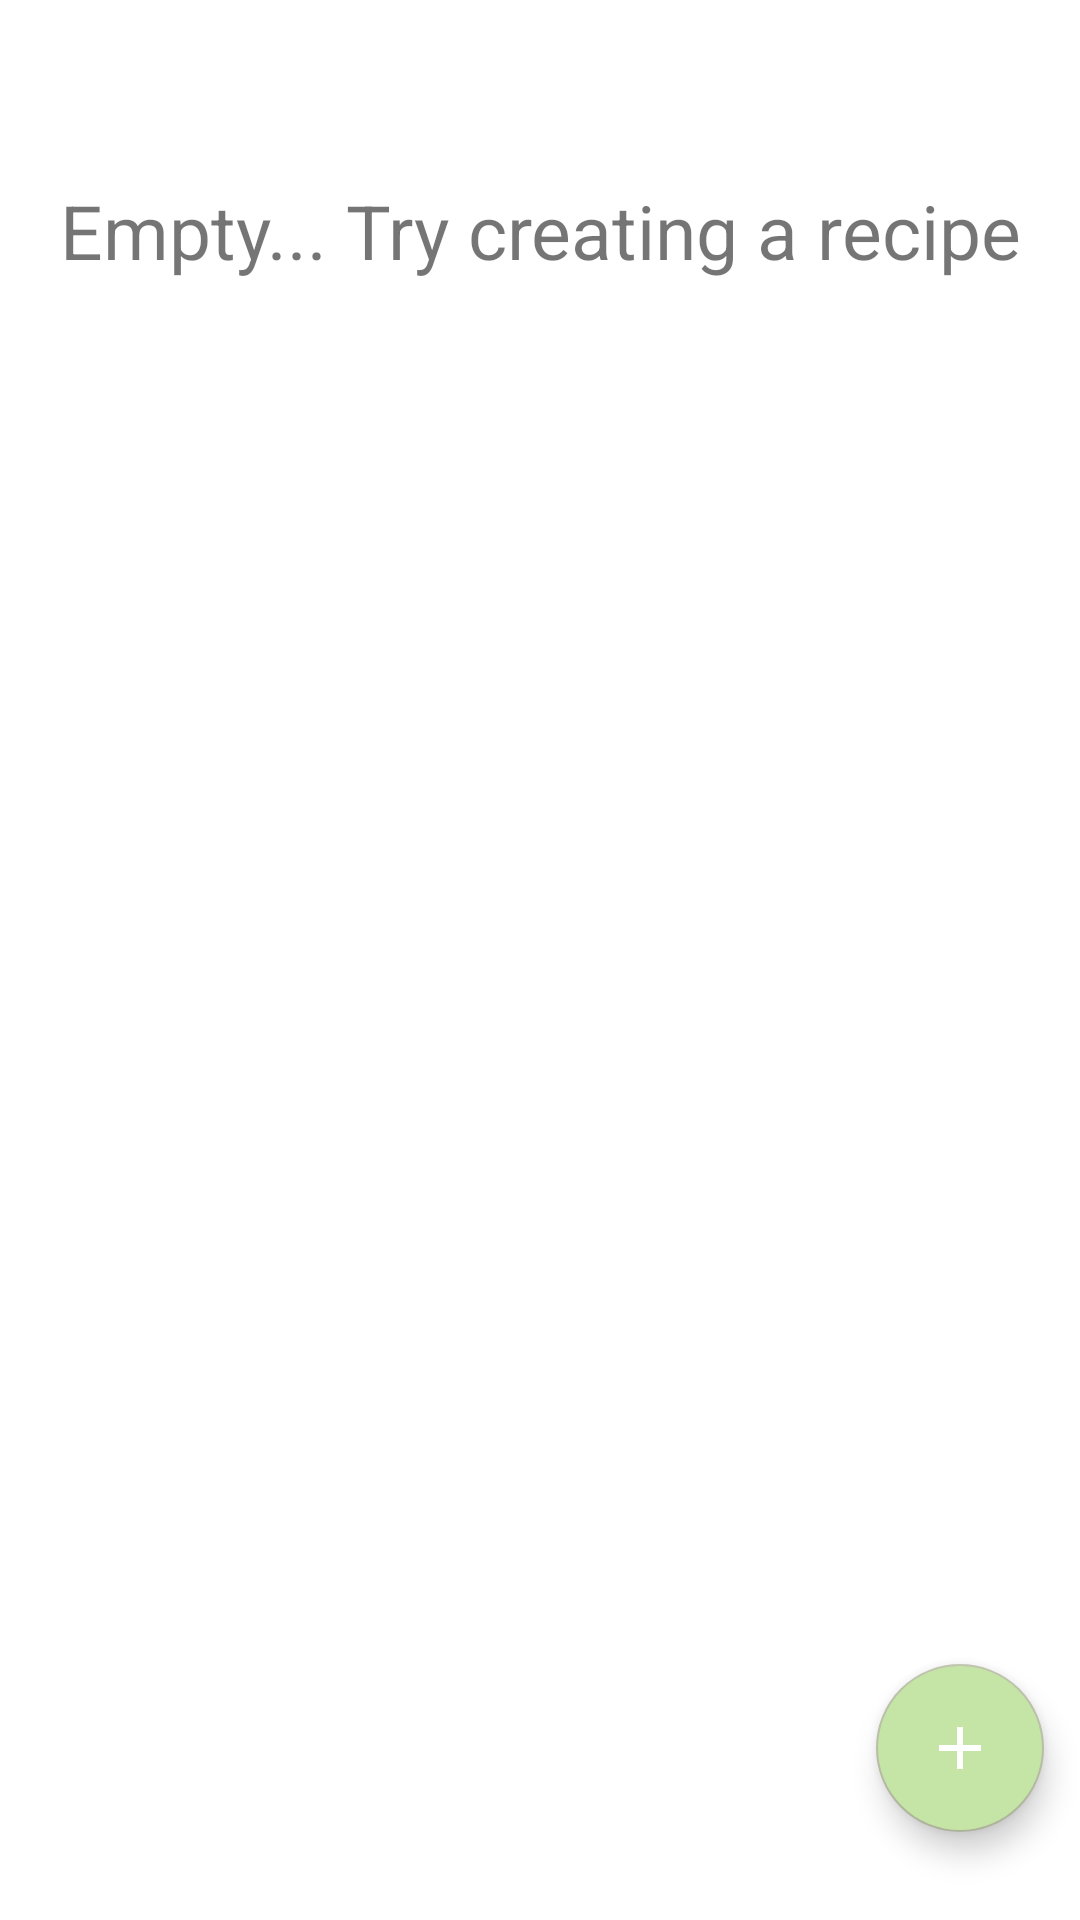

Icon bounding boxes for this 1080w x 1920h phone screenshot, format bbox(x1, y1, x2, y2):
add: bbox(876, 1664, 1044, 1832)
